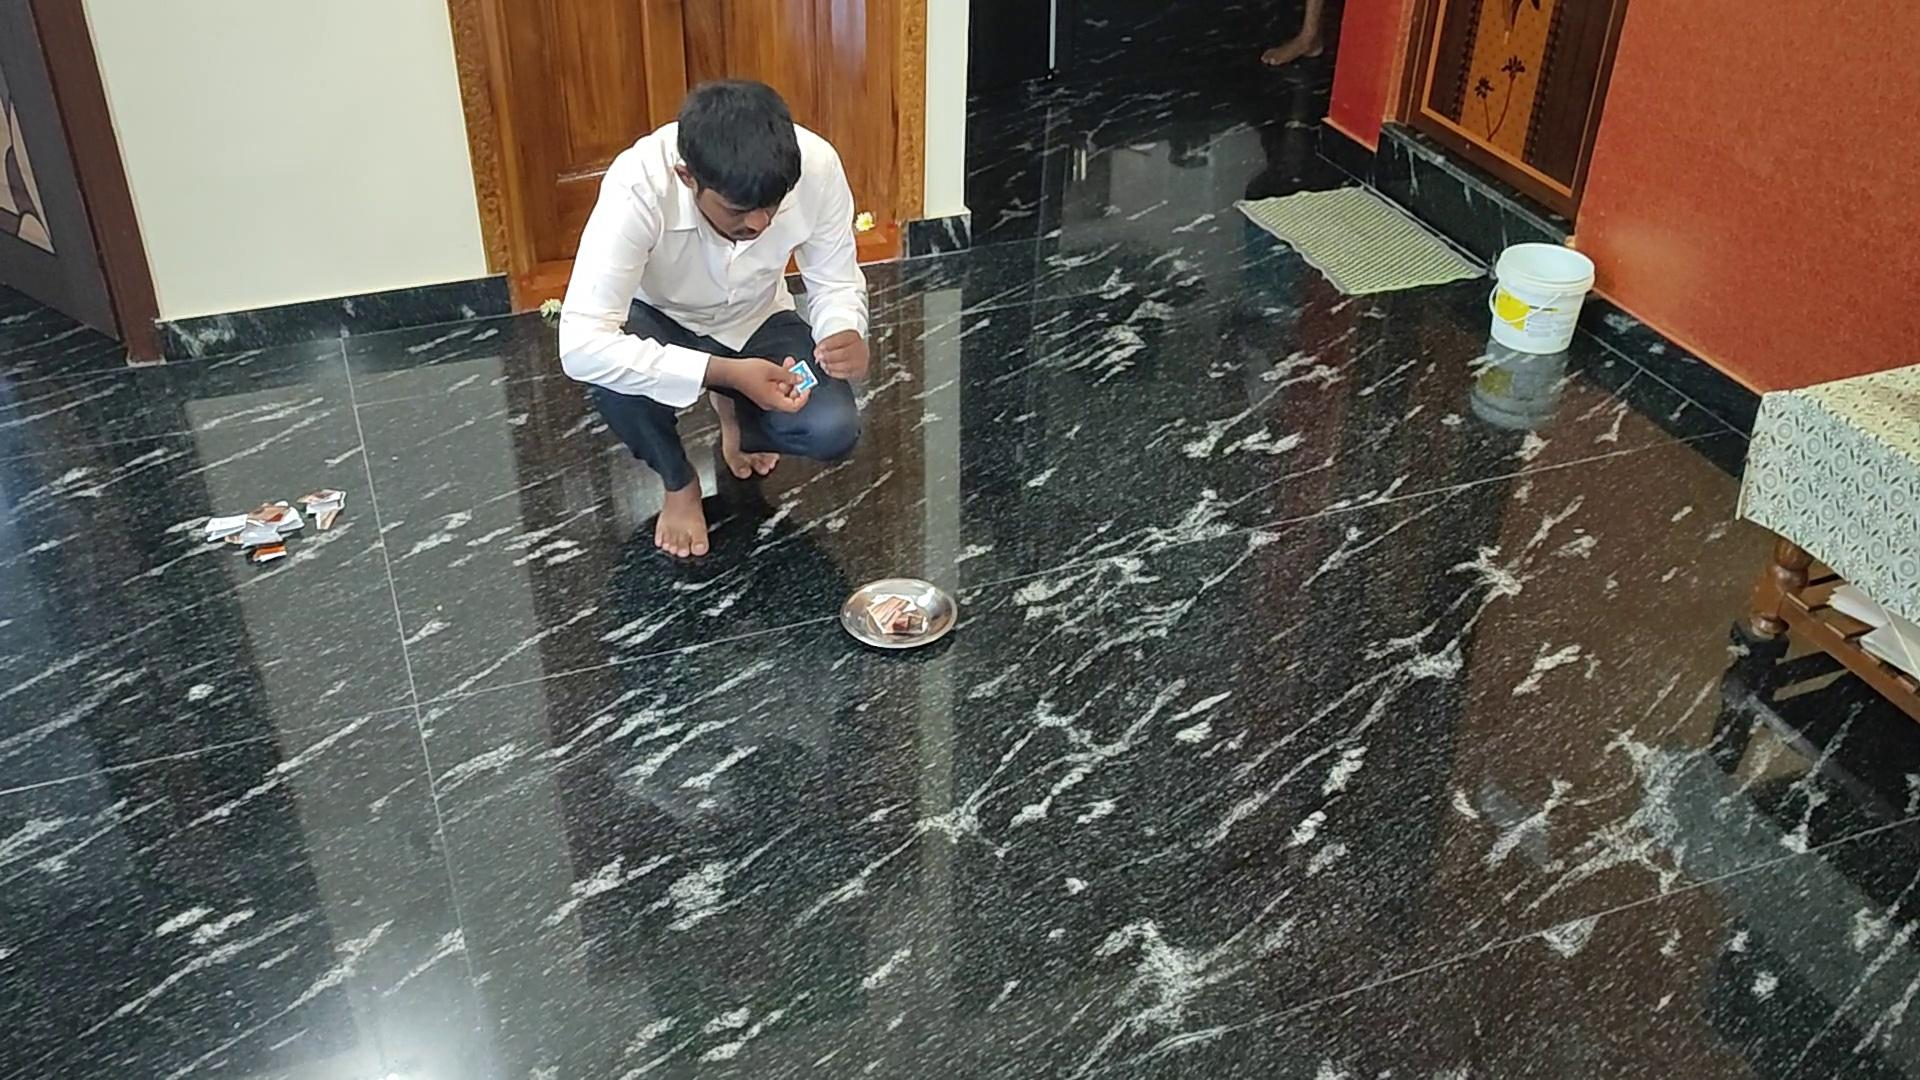Fire: (884, 583, 927, 641)
